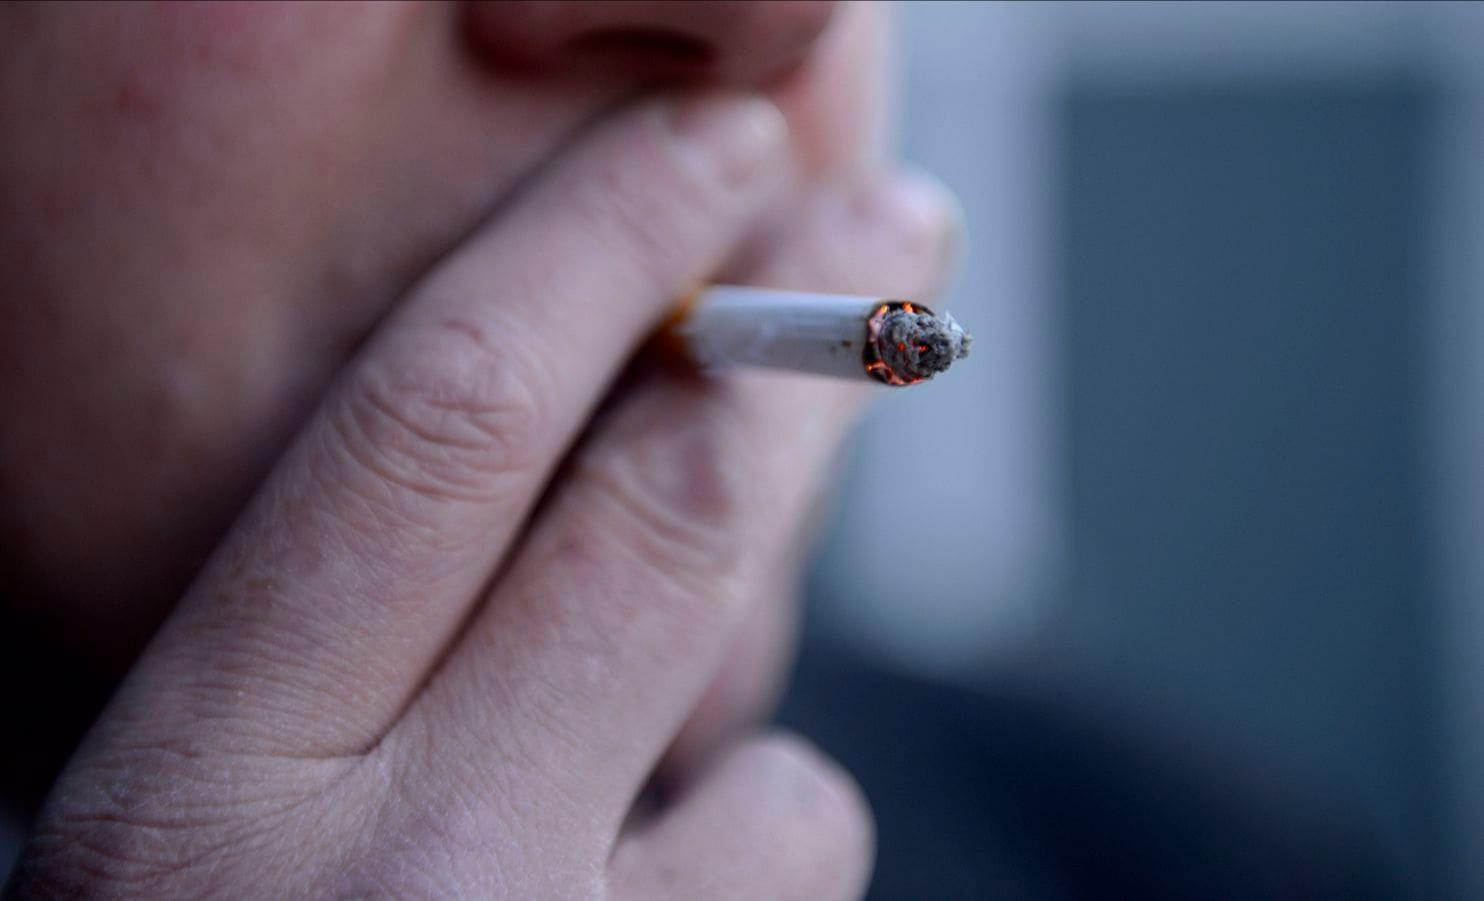Cigarette: (656, 280, 972, 387)
